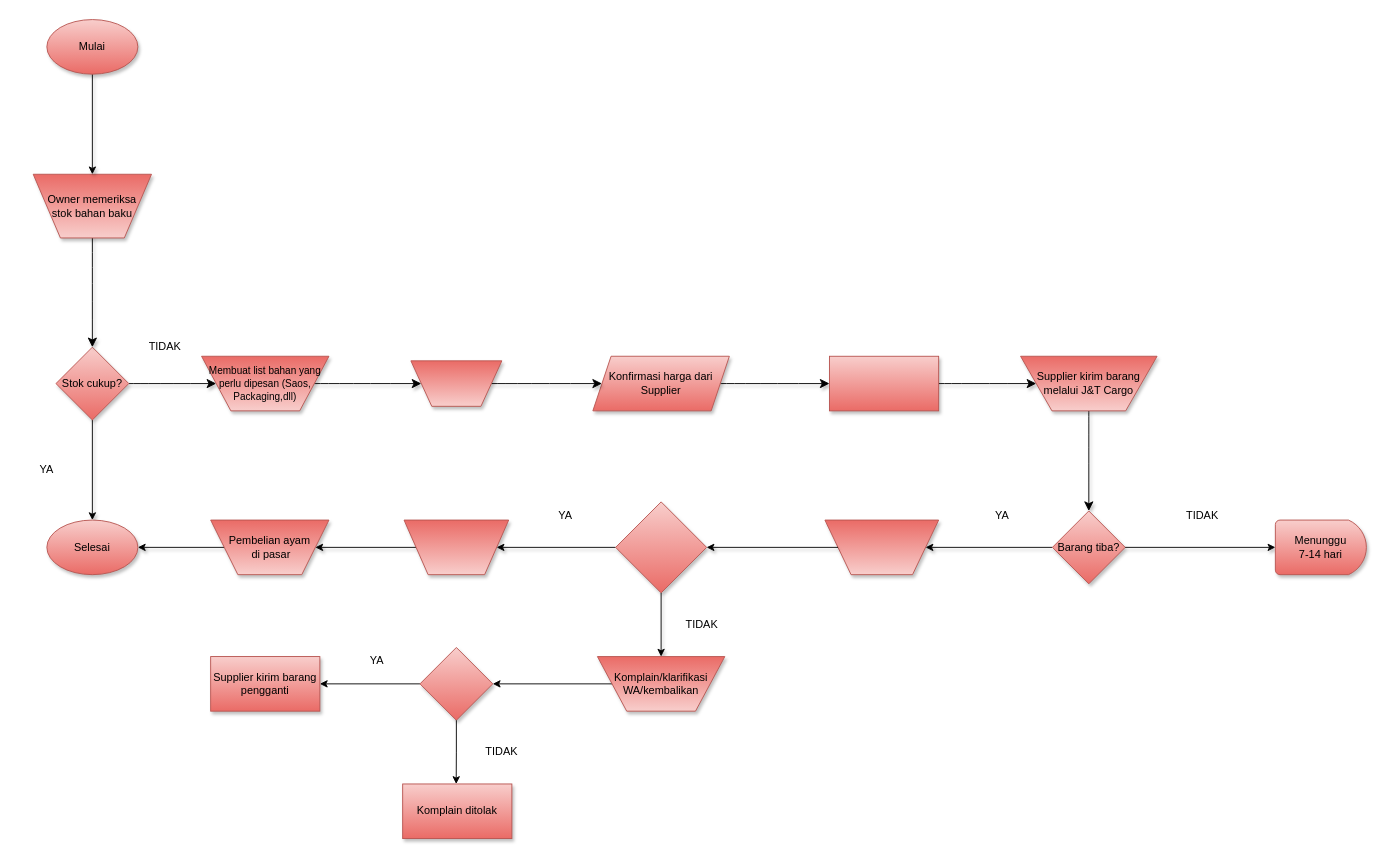
Image size: 1388x861. Some labels were removed from this diagram. The shapes that lost their labels are listed below. From the top down, each one's centre as x and y in pixels, then its label:
At (456,384): "Pesan melalui WhatsApp".
At (884,384): "Pembayaran via transfer".
At (456,548): "Simpan barang di rak".
At (661,548): "Kualitas OK?".
At (882,548): "Terima barang & cek kualitas".
At (456,685): "Diverifikasi Supplier?".
